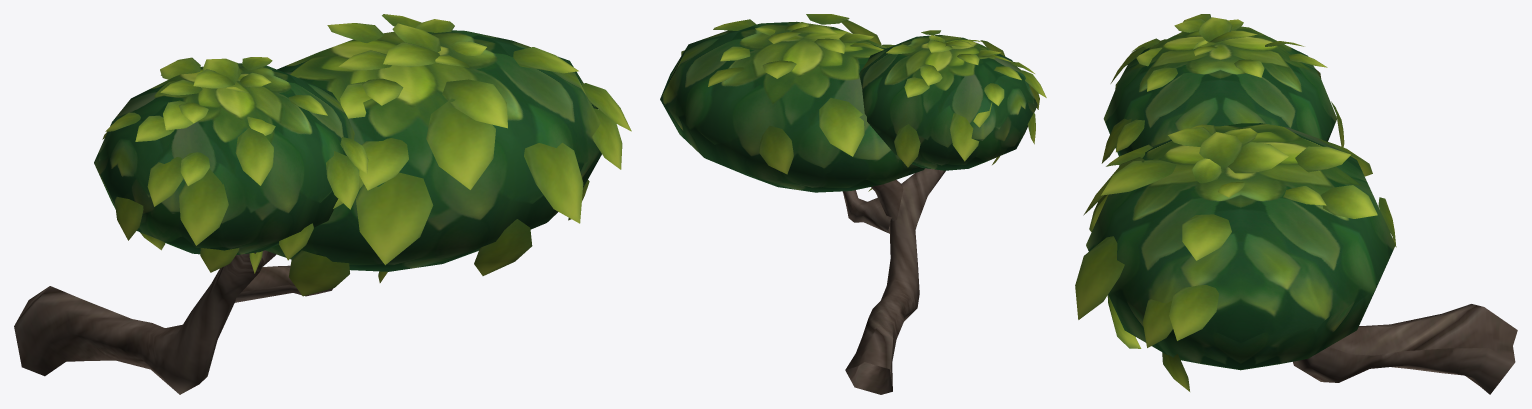
The picture shows the model from 3 angles, left to right: view 1: azimuth 30°, elevation 25°; view 2: azimuth 150°, elevation 25°; view 3: azimuth 270°, elevation 25°; orthographic projection. The views are drawn at different scales.
Visible parts, largest first — view 1: Sphere001, shuzhi; view 2: Sphere001, shuzhi; view 3: Sphere001, shuzhi.
Boxes of the visible parts, x1=… form: Sphere001: x1=94, y1=14, x2=631, y2=296; shuzhi: x1=14, y1=250, x2=332, y2=394; Sphere001: x1=660, y1=14, x2=1046, y2=192; shuzhi: x1=842, y1=168, x2=945, y2=394; Sphere001: x1=1075, y1=14, x2=1396, y2=391; shuzhi: x1=1293, y1=304, x2=1517, y2=394.
Bounding box in the file's own units: 35.19 × 26.38 × 28.15.
